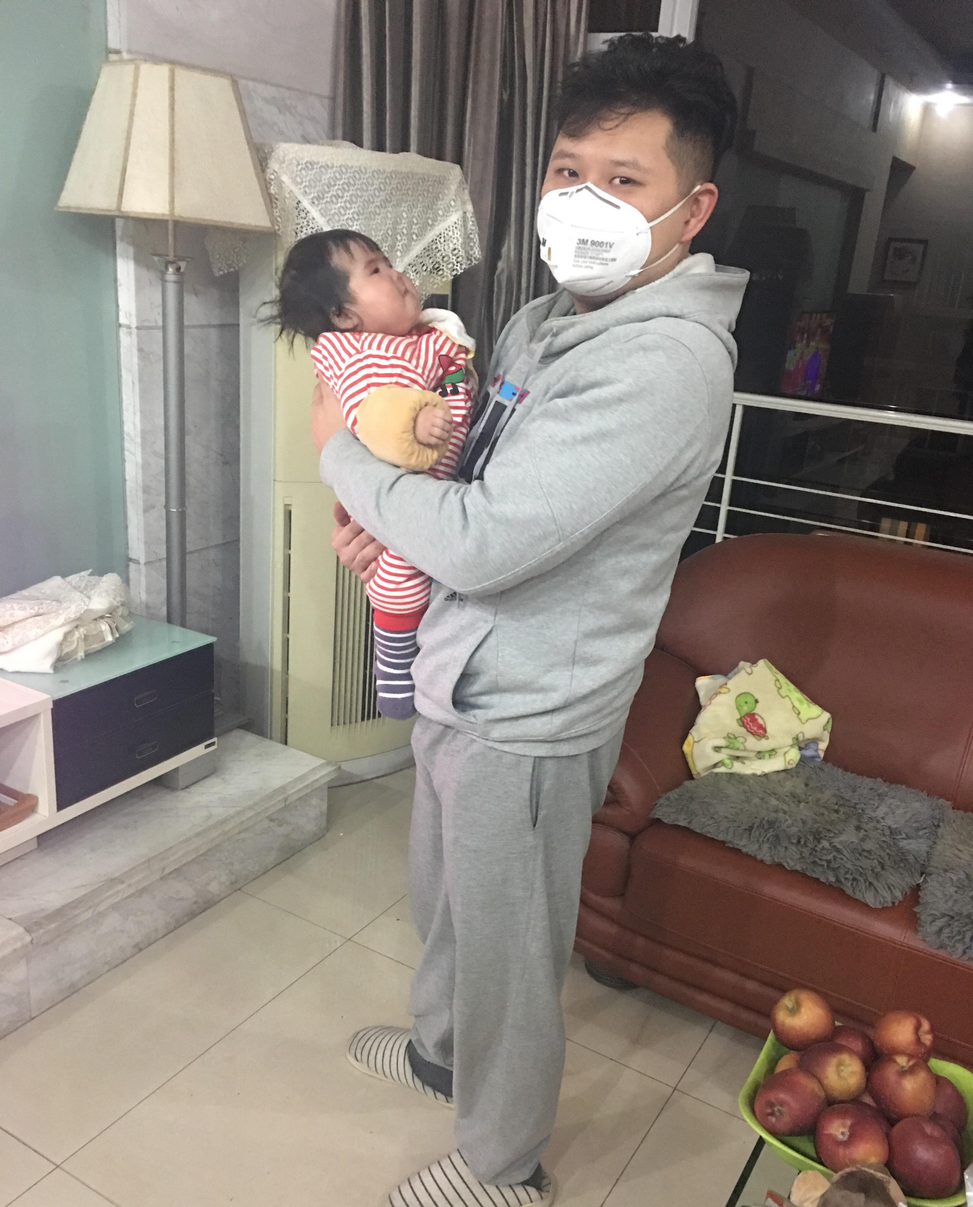NONE: (355, 255, 426, 329)
OK: (528, 134, 694, 301)
